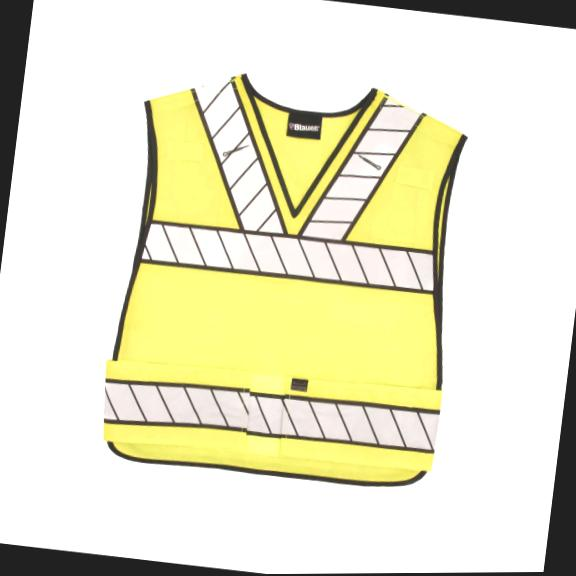safety_vest: (97, 52, 480, 497)
